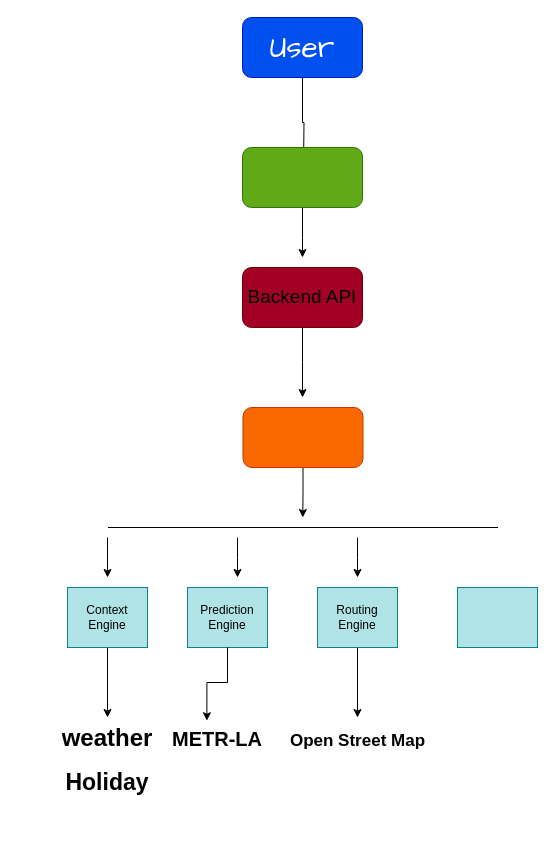
This 555x858 diagram has some shape labels left out. Here are the shapes that lost their labels. From the top down, the centre of each, then its label:
At [302,177]: "Frontend(WebUI)".
At [302,437]: "Decision Engine".
At [497,617]: "Analytics Engine".
